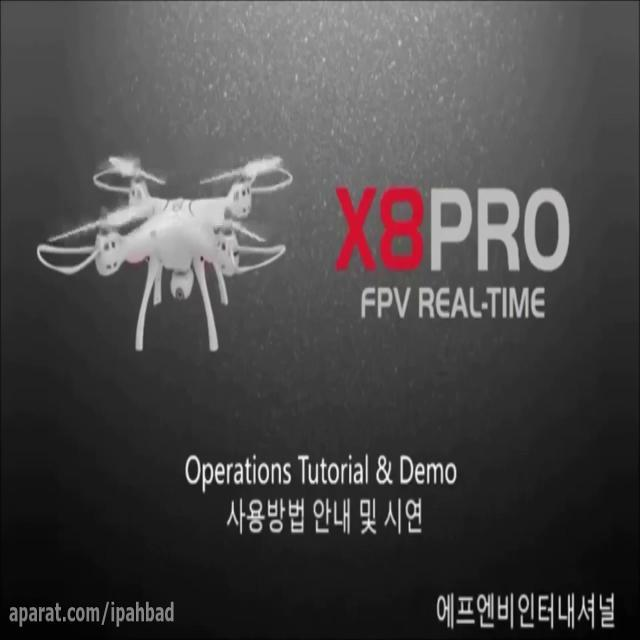drone: (34, 147, 296, 356)
